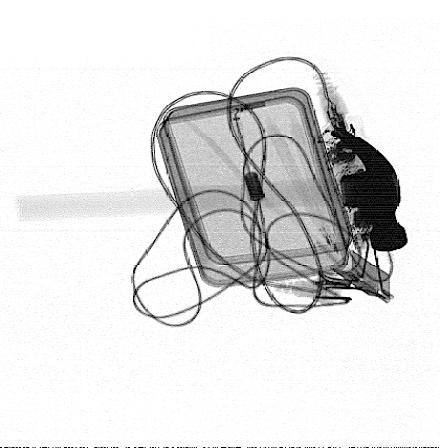Hammer: (13, 127, 409, 252)
